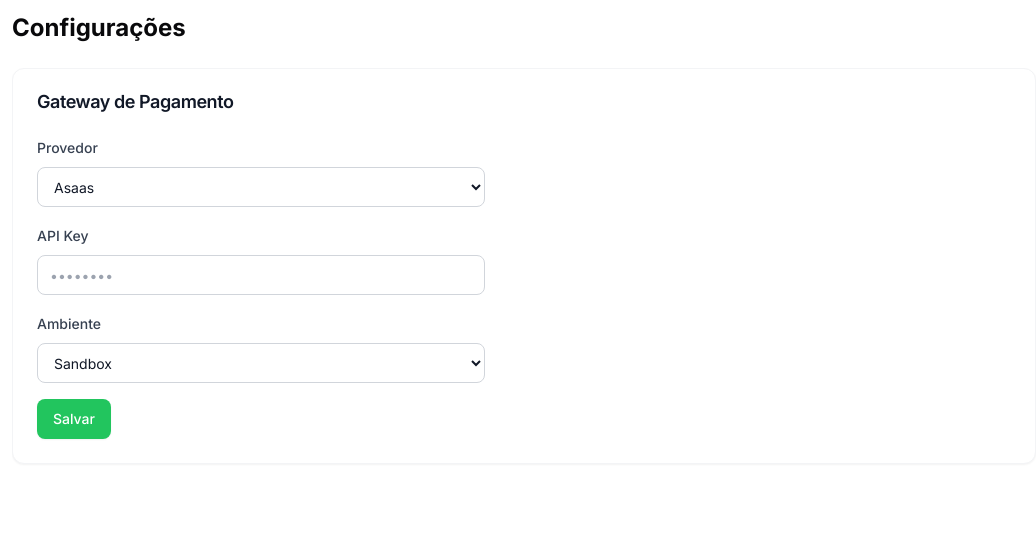
Test: SettingsPage — Multi-Provider › states › shows error message on API failure
Type "key" into the password field labelled "API Key" at (261, 275), box [37, 255, 485, 295]
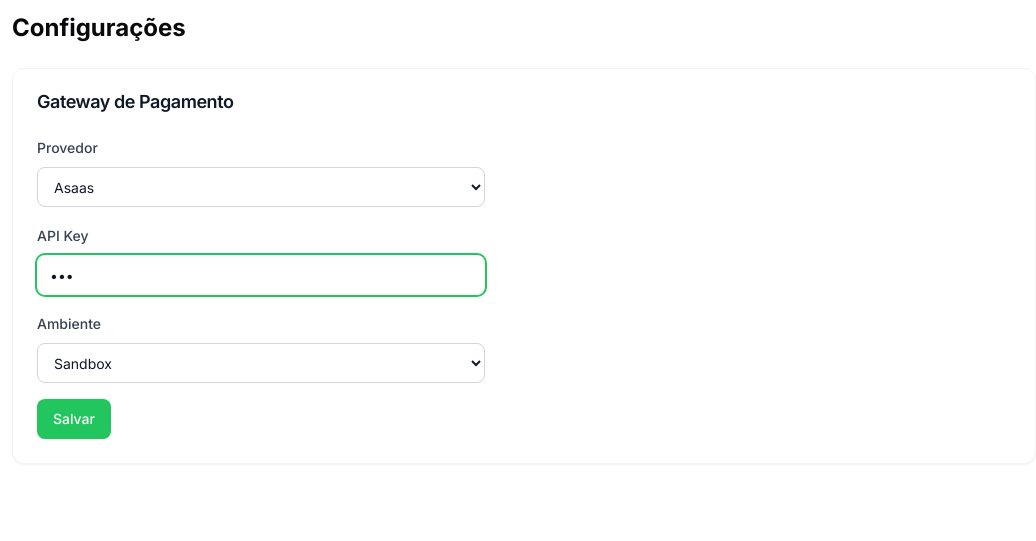
Click the button "Salvar" at (74, 419), box [37, 399, 111, 439]
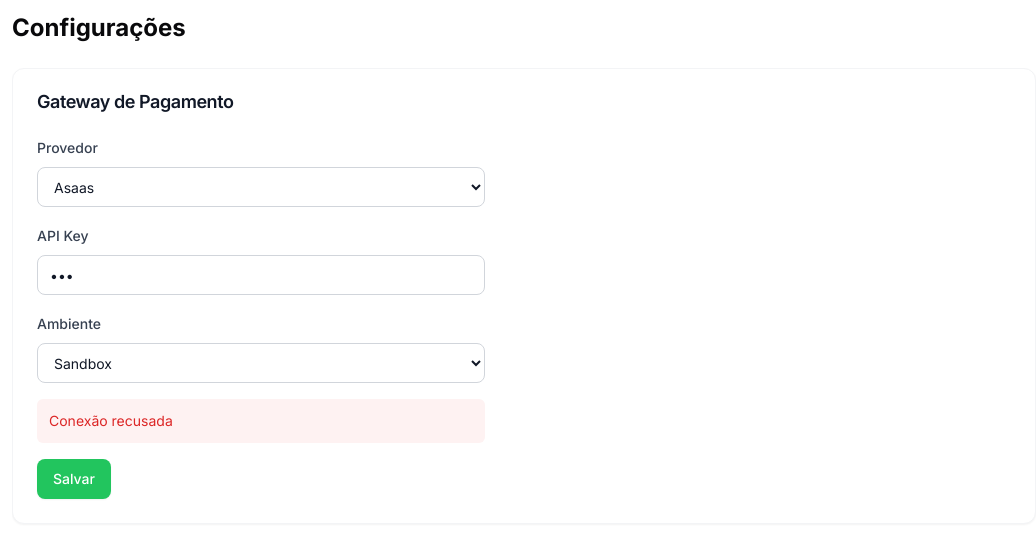
Check: the text "Conexão recusada" is shown, box [37, 399, 485, 443]
